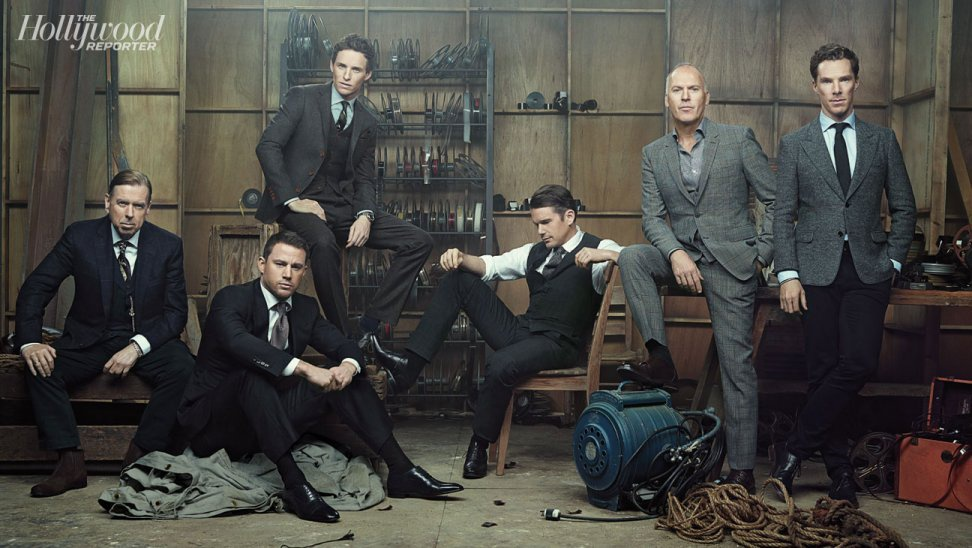bad: (664, 79, 708, 122), (813, 70, 856, 113), (266, 247, 309, 290), (329, 58, 365, 94), (109, 194, 145, 230), (525, 210, 561, 246)
